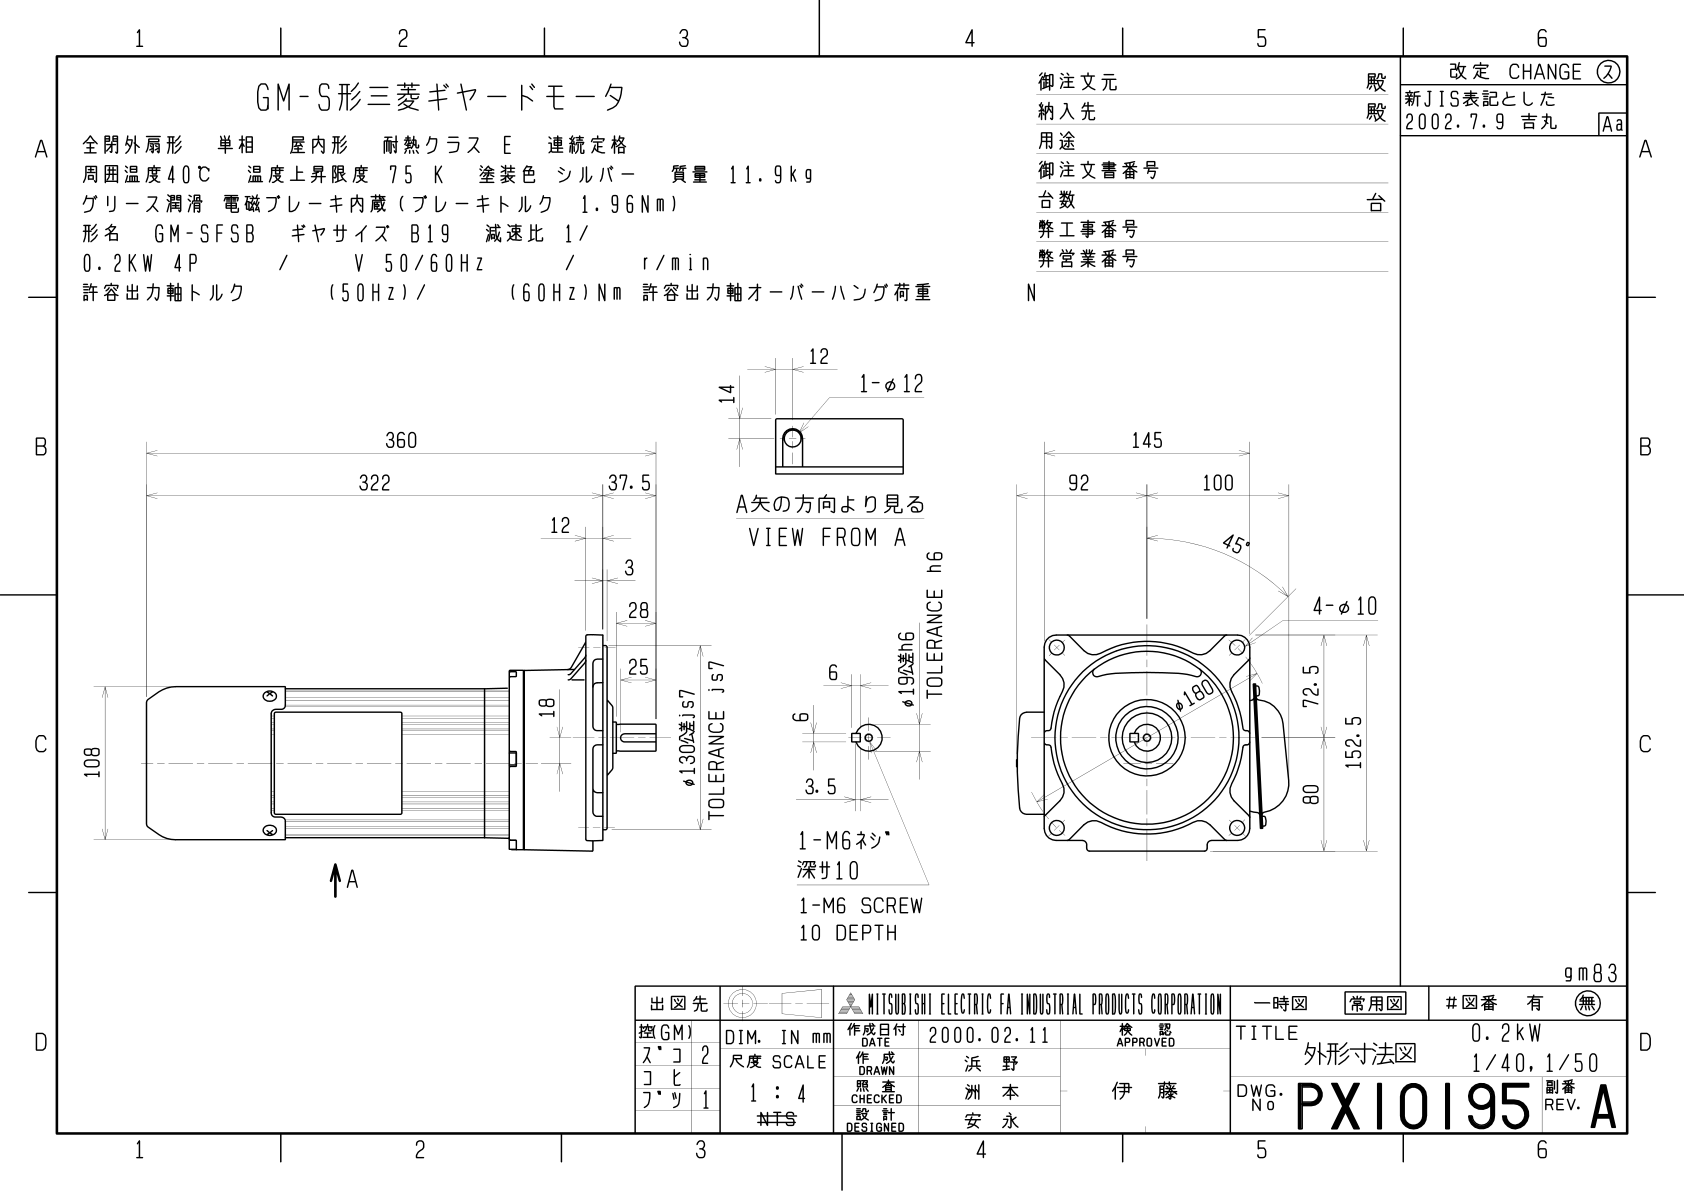GM_S_屋内＿単相_フランジ: (67, 329, 1386, 962)
